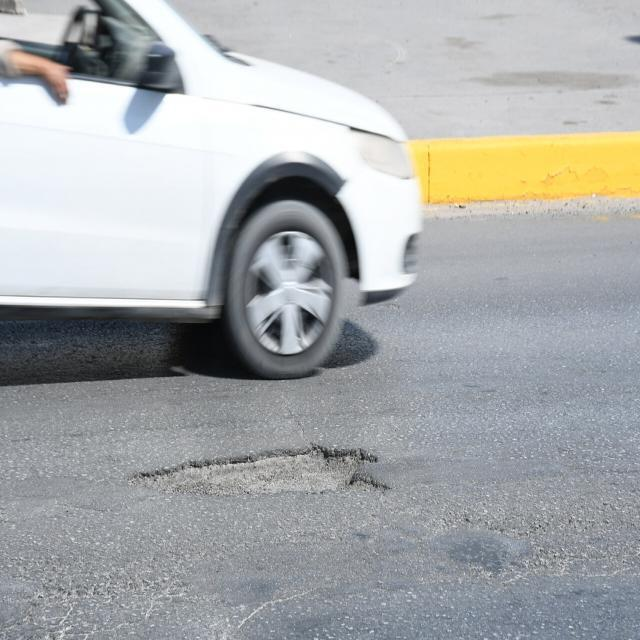pothole: (91, 416, 424, 559)
